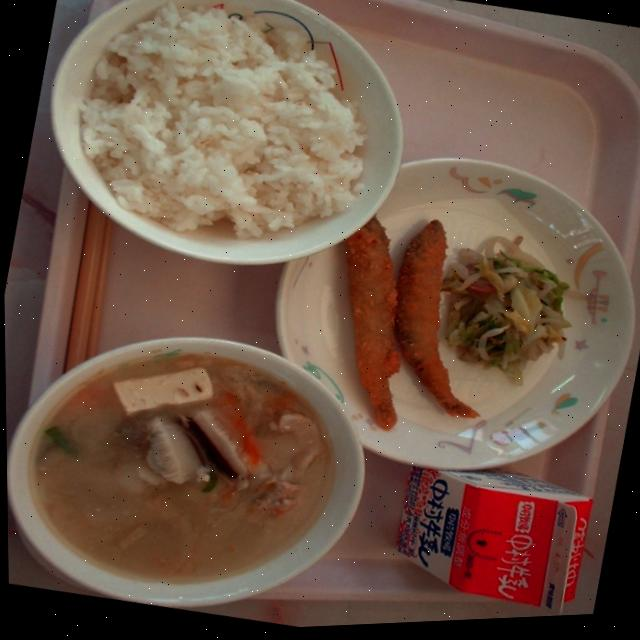米饭主食: (11, 0, 446, 314)
